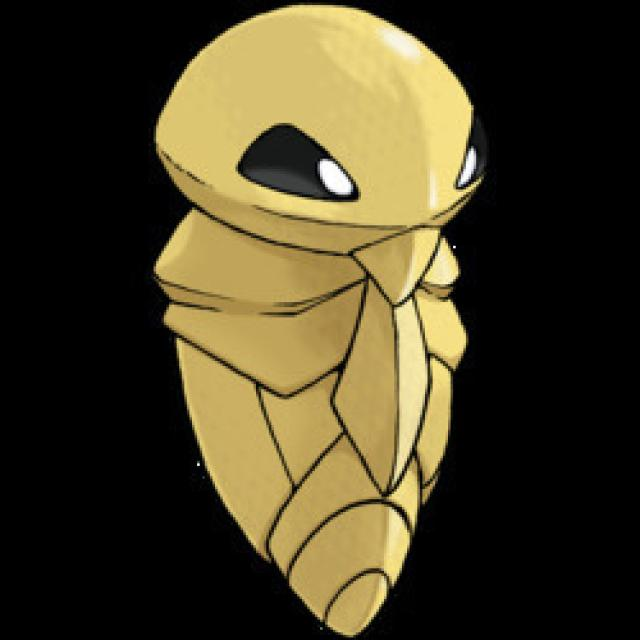Kakuna: (150, 6, 492, 638)
